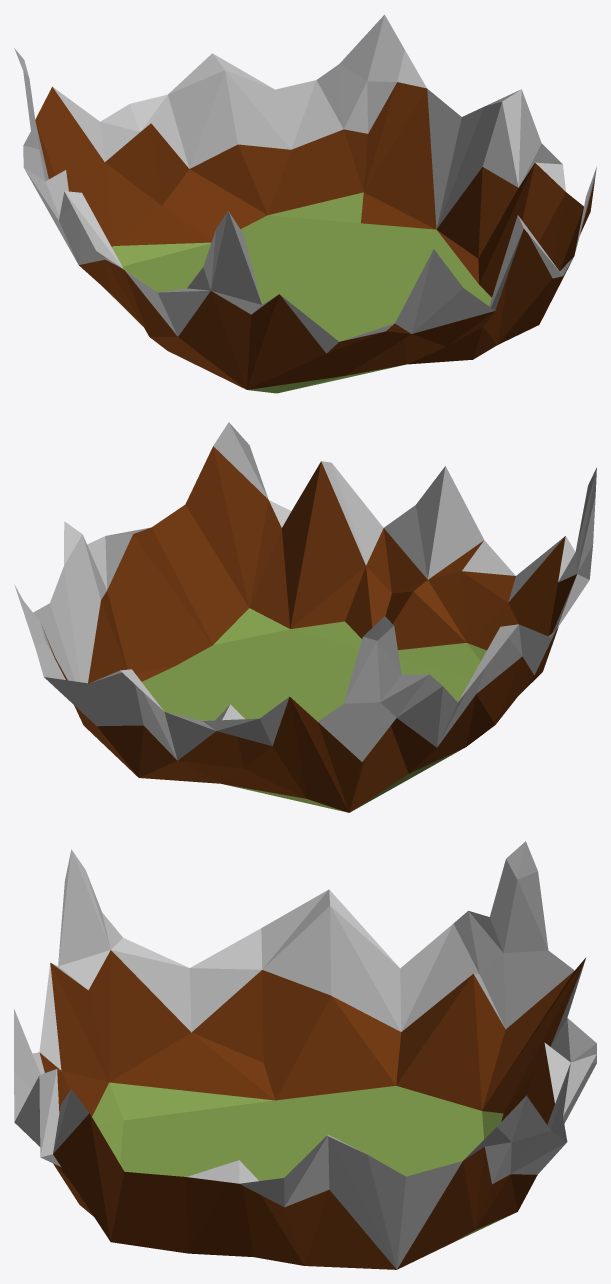
The model's file is LowPolyTerrain.fbx.
The picture shows the model from 3 angles, top to bottom: view 1: azimuth 30°, elevation 25°; view 2: azimuth 150°, elevation 25°; view 3: azimuth 270°, elevation 25°; orthographic projection. The views are drawn at different scales.
Parts seen in each view (by area): view 1: Plane; view 2: Plane; view 3: Plane.
Part boxes in pixels (bbox=[...]): Plane: bbox=[14, 14, 596, 393]; Plane: bbox=[14, 422, 596, 812]; Plane: bbox=[14, 841, 596, 1269].
Size of the model in its own units: 20984 by 9934 by 21801.
